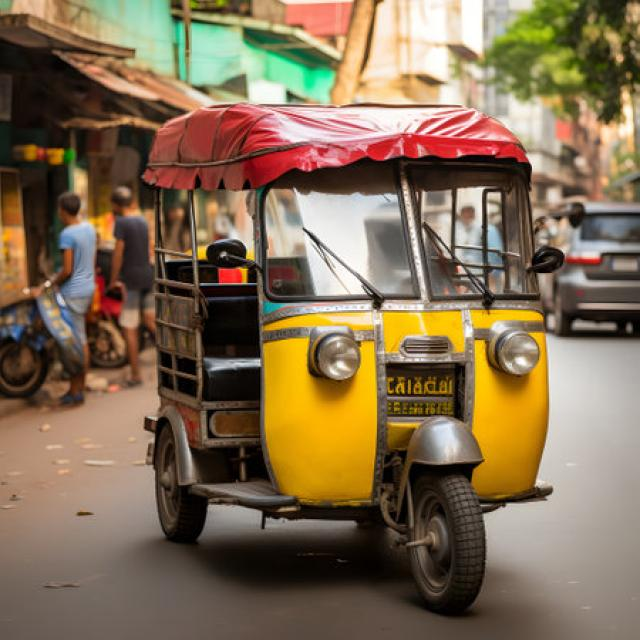autorickshaw: (144, 105, 561, 612)
